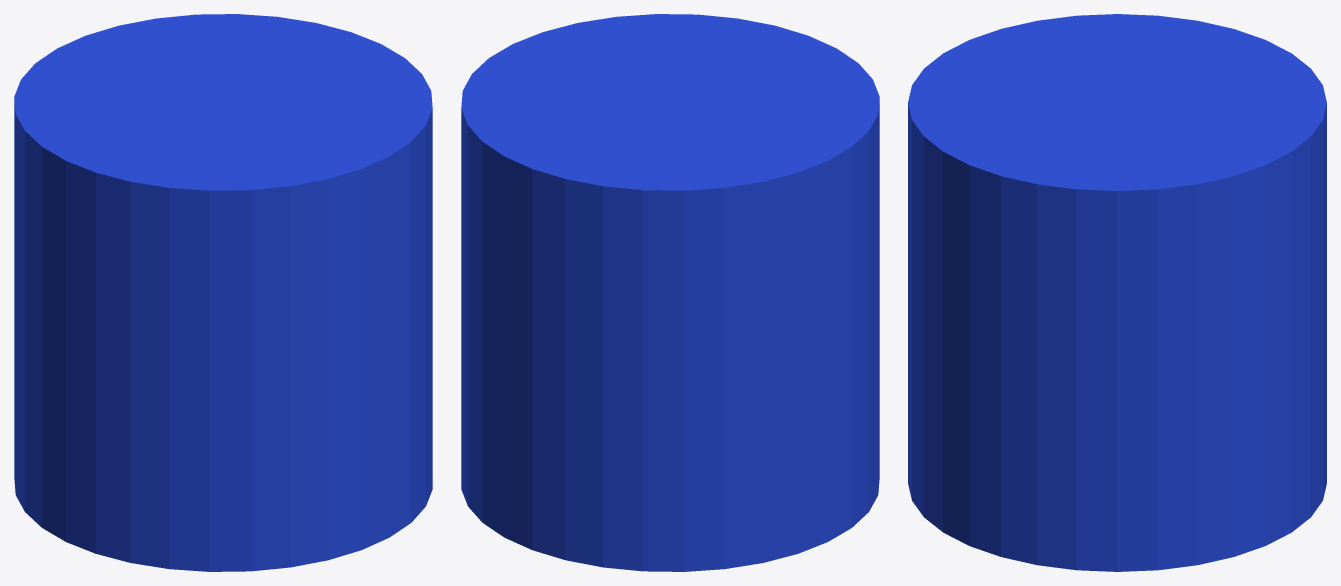
The model's file is lake.glb.
3 renders of one model, left to right at view 1: azimuth 30°, elevation 25°; view 2: azimuth 150°, elevation 25°; view 3: azimuth 270°, elevation 25°, orthographic.
Visible parts, largest first — view 1: Cylinder; view 2: Cylinder; view 3: Cylinder.
Boxes of the visible parts, <box> form: Cylinder: <box>14,14,432,571</box>; Cylinder: <box>461,14,879,571</box>; Cylinder: <box>908,14,1326,571</box>.
Bounding box in the file's own units: 1 × 1 × 1.
